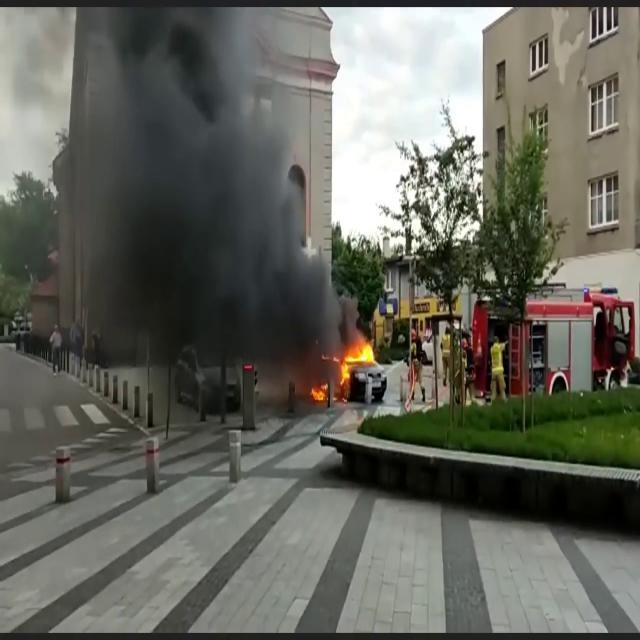Fire: (334, 331, 376, 387)
Smoke: (31, 1, 337, 382)
